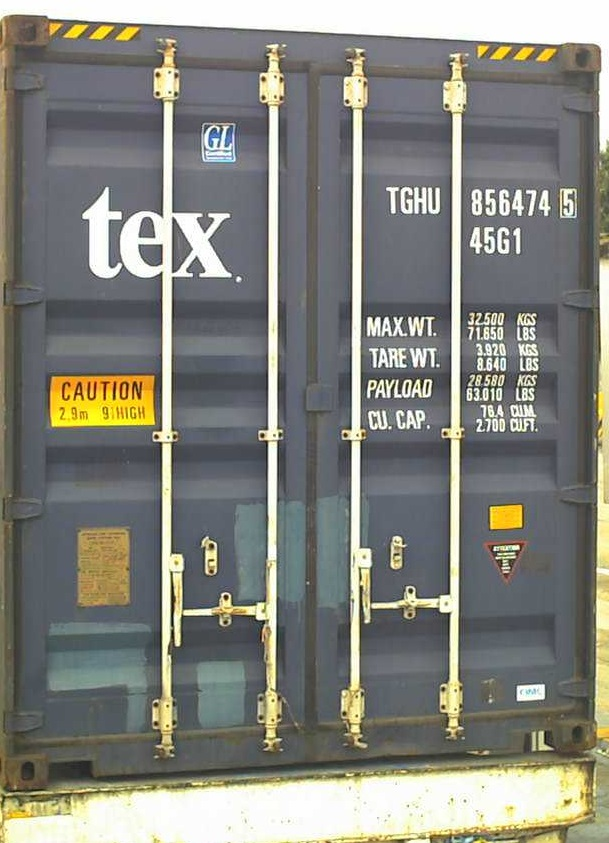container_door: (4, 9, 598, 810)
